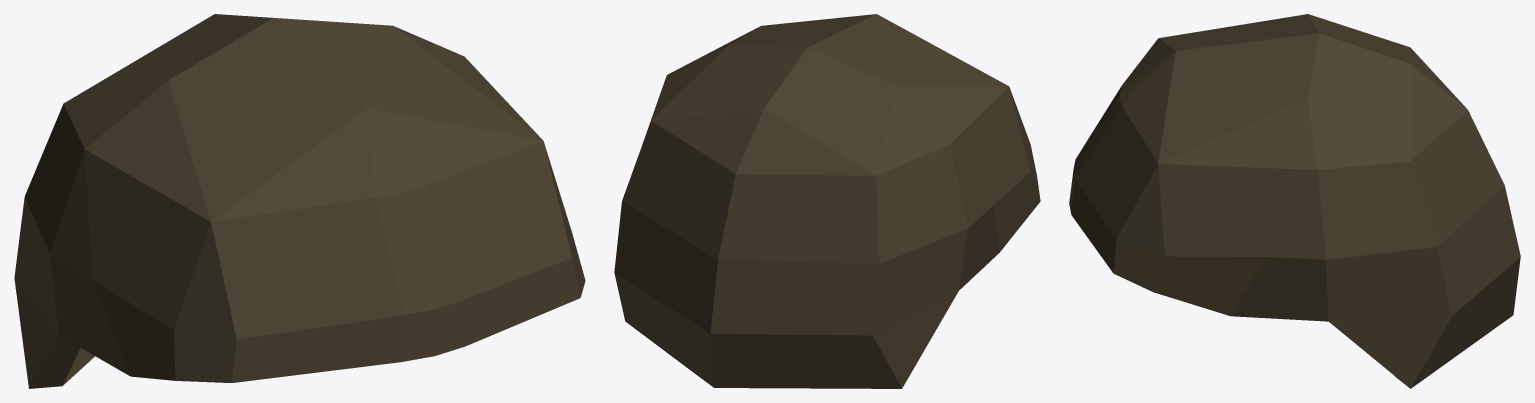
File: Male_Hairstyle_4.glb
3 renders of one model, left to right at view 1: azimuth 30°, elevation 25°; view 2: azimuth 150°, elevation 25°; view 3: azimuth 270°, elevation 25°, orthographic. The views are drawn at different scales.
Visible parts, largest first — view 1: Male_Hairstyle_4; view 2: Male_Hairstyle_4; view 3: Male_Hairstyle_4.
Part boxes in pixels (x1,y1,x2,y2): Male_Hairstyle_4: (14, 14, 585, 388); Male_Hairstyle_4: (614, 14, 1040, 388); Male_Hairstyle_4: (1069, 14, 1520, 388).
Size of the model in its own units: 0.5046 by 0.4064 by 0.5824.
